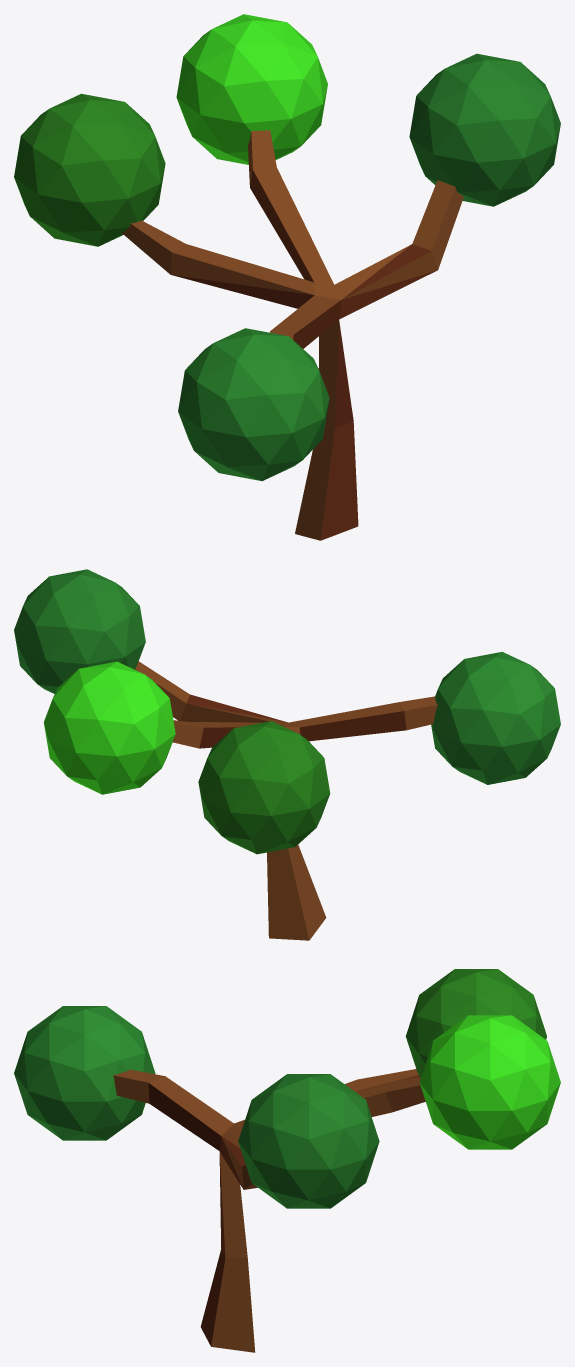
The model's file is asset.gltf.
3 views of the same model, one above another, from view 1: azimuth 30°, elevation 25°; view 2: azimuth 150°, elevation 25°; view 3: azimuth 270°, elevation 25° (orthographic). The views are drawn at different scales.
Parts seen in each view (by area): view 1: Trunk, Green_01, Green_02, Green_04, Green_03; view 2: Green_02, Green_03, Green_01, Trunk, Green_04; view 3: Green_04, Green_03, Green_01, Trunk, Green_02.
Boxes of the visible parts, box(x1,y1,x2,y2) form: Trunk: box(122, 130, 463, 540); Green_01: box(178, 328, 329, 481); Green_02: box(14, 93, 165, 246); Green_04: box(409, 53, 560, 206); Green_03: box(176, 14, 327, 164); Green_02: box(198, 721, 330, 854); Green_03: box(44, 661, 175, 794); Green_01: box(431, 651, 560, 784); Trunk: box(135, 661, 437, 940); Green_04: box(14, 569, 145, 693); Green_04: box(238, 1074, 379, 1208); Green_03: box(419, 1015, 560, 1149); Green_01: box(14, 1006, 155, 1140); Trunk: box(113, 1069, 425, 1352); Green_02: box(405, 969, 546, 1077).
Size of the model in its own units: 11.16 by 8.71 by 12.02.
